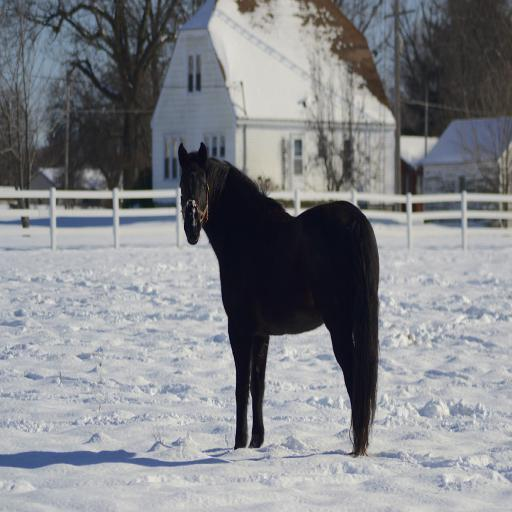horse: (179, 142, 379, 456)
